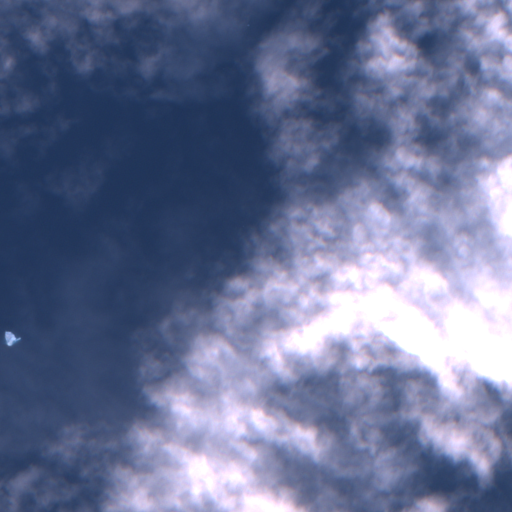Iceberg: (5, 331, 20, 345)
